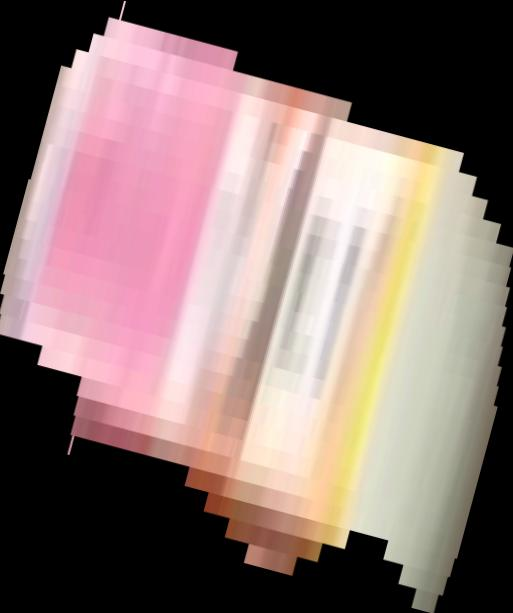flat: (1, 1, 513, 613)
